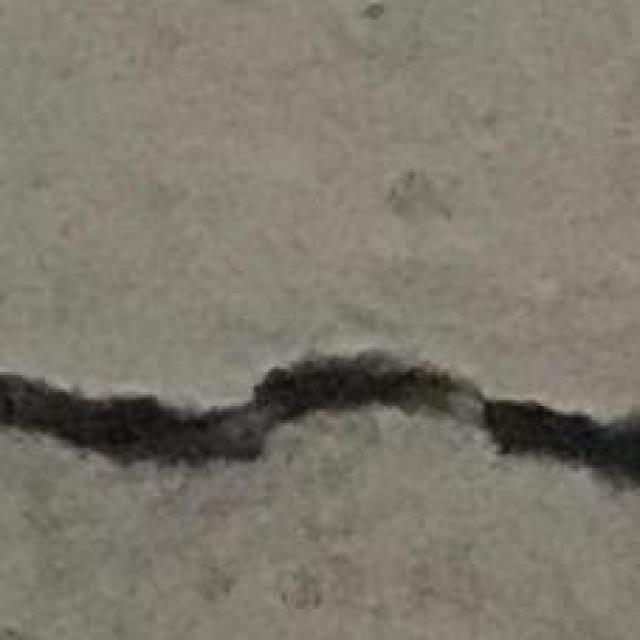horizontal crack: (0, 353, 639, 484)
